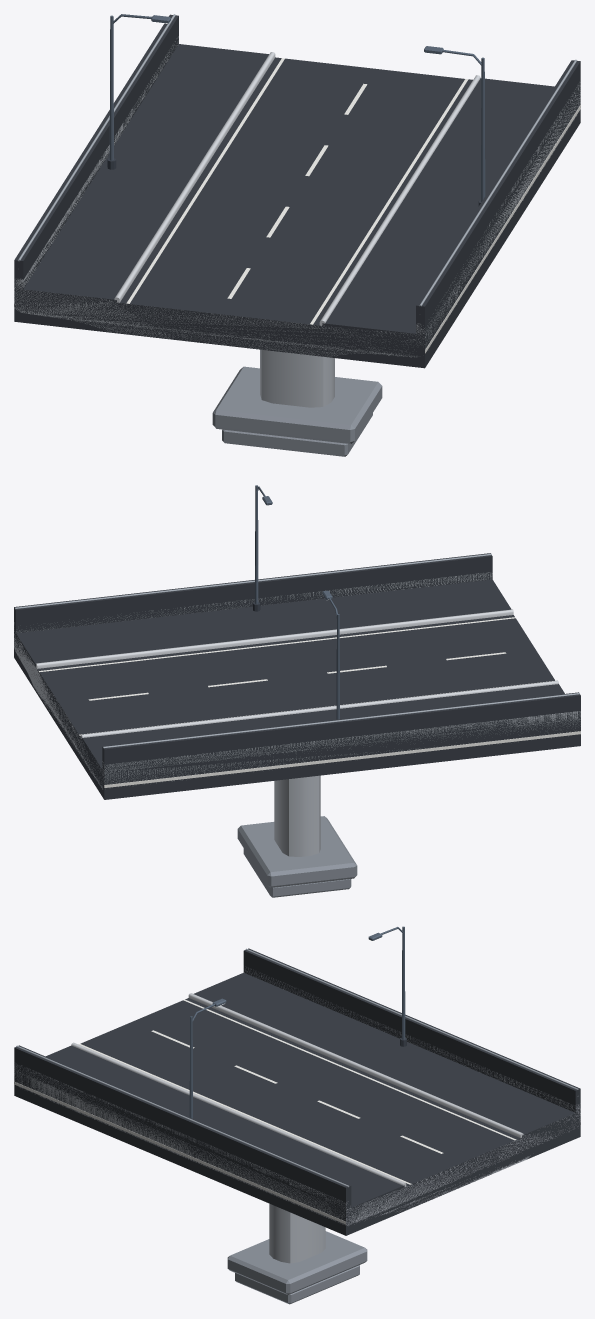
Rendered from ponte_diagonal_tabuleiro_rua.glb.
3 renders of one model, top to bottom at view 1: azimuth 30°, elevation 25°; view 2: azimuth 150°, elevation 25°; view 3: azimuth 270°, elevation 25°, orthographic. The views are drawn at different scales.
Parts seen in each view (by area): view 1: colisao_tabuleiro, ponte_diagonal_tabuleiro_rua; view 2: colisao_tabuleiro, ponte_diagonal_tabuleiro_rua; view 3: colisao_tabuleiro, ponte_diagonal_tabuleiro_rua.
Boxes of the visible parts, bbox=[...] form: colisao_tabuleiro: bbox=[14, 14, 580, 368]; ponte_diagonal_tabuleiro_rua: bbox=[14, 14, 580, 456]; colisao_tabuleiro: bbox=[14, 553, 580, 799]; ponte_diagonal_tabuleiro_rua: bbox=[14, 485, 580, 897]; colisao_tabuleiro: bbox=[14, 948, 580, 1235]; ponte_diagonal_tabuleiro_rua: bbox=[14, 926, 580, 1304].
Bounding box in the file's own units: 25.62 × 15.48 × 25.62.
Materials: 2 (1 with a texture image).
